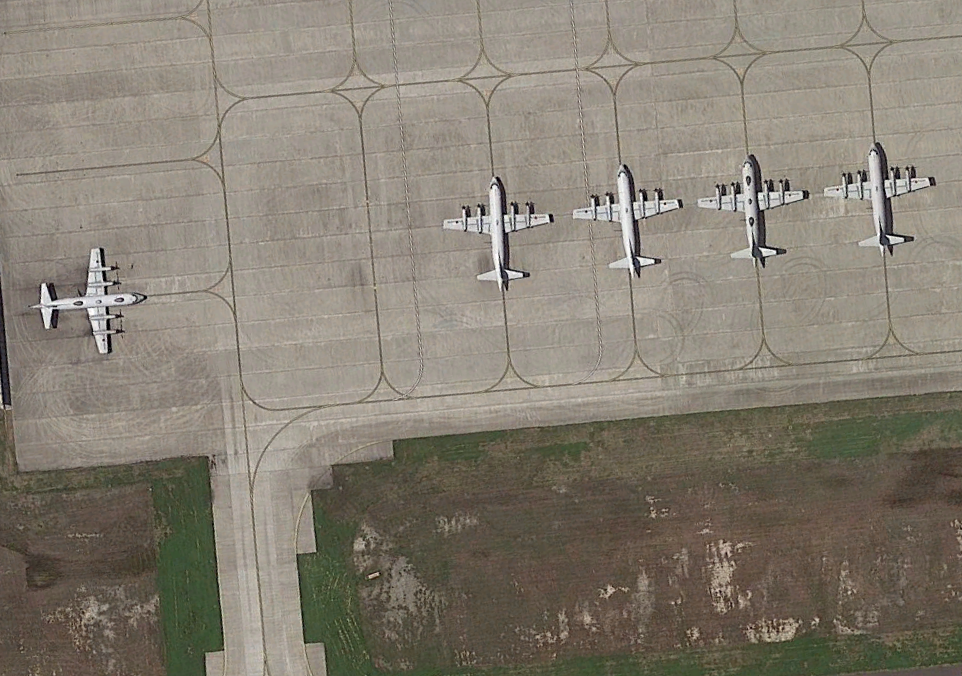A9: (19, 239, 146, 361), (440, 171, 555, 298), (570, 162, 685, 289), (693, 152, 808, 279), (821, 139, 936, 266)
